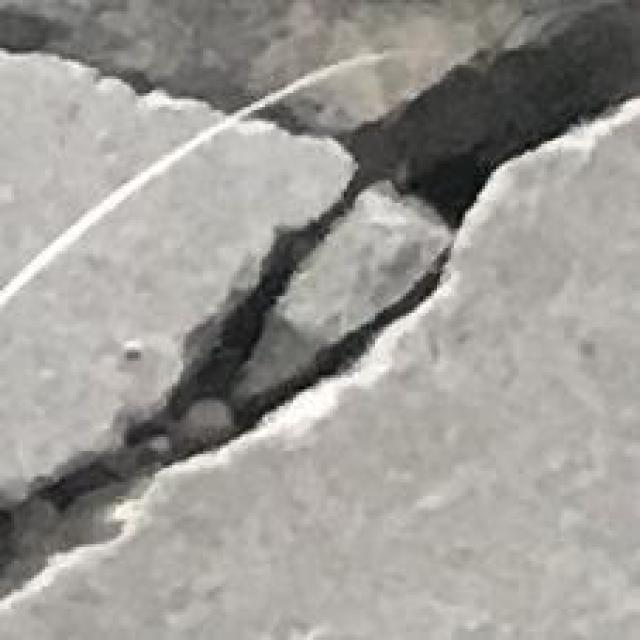Crack: (5, 8, 640, 611)
